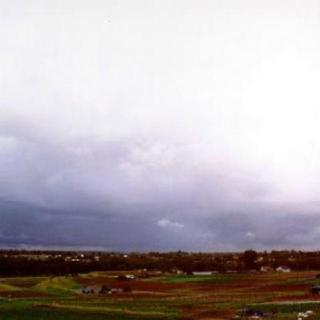Stratus: (9, 0, 319, 246)
